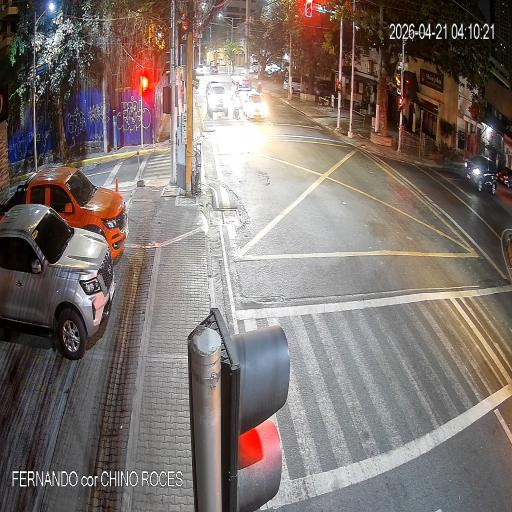Car: (0, 194, 113, 373), (22, 164, 136, 272), (459, 150, 502, 203), (243, 90, 269, 130), (206, 76, 225, 127), (284, 74, 307, 100), (246, 51, 266, 80)
Motor: (230, 93, 242, 126)
